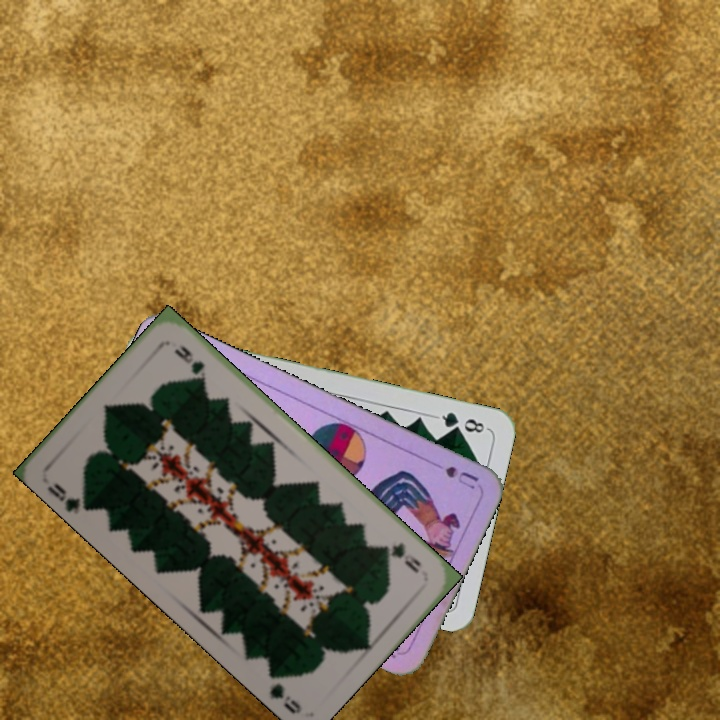G8: (432, 407, 490, 436)
G9: (43, 479, 94, 517), (377, 538, 424, 576)
SU: (424, 458, 482, 492)
